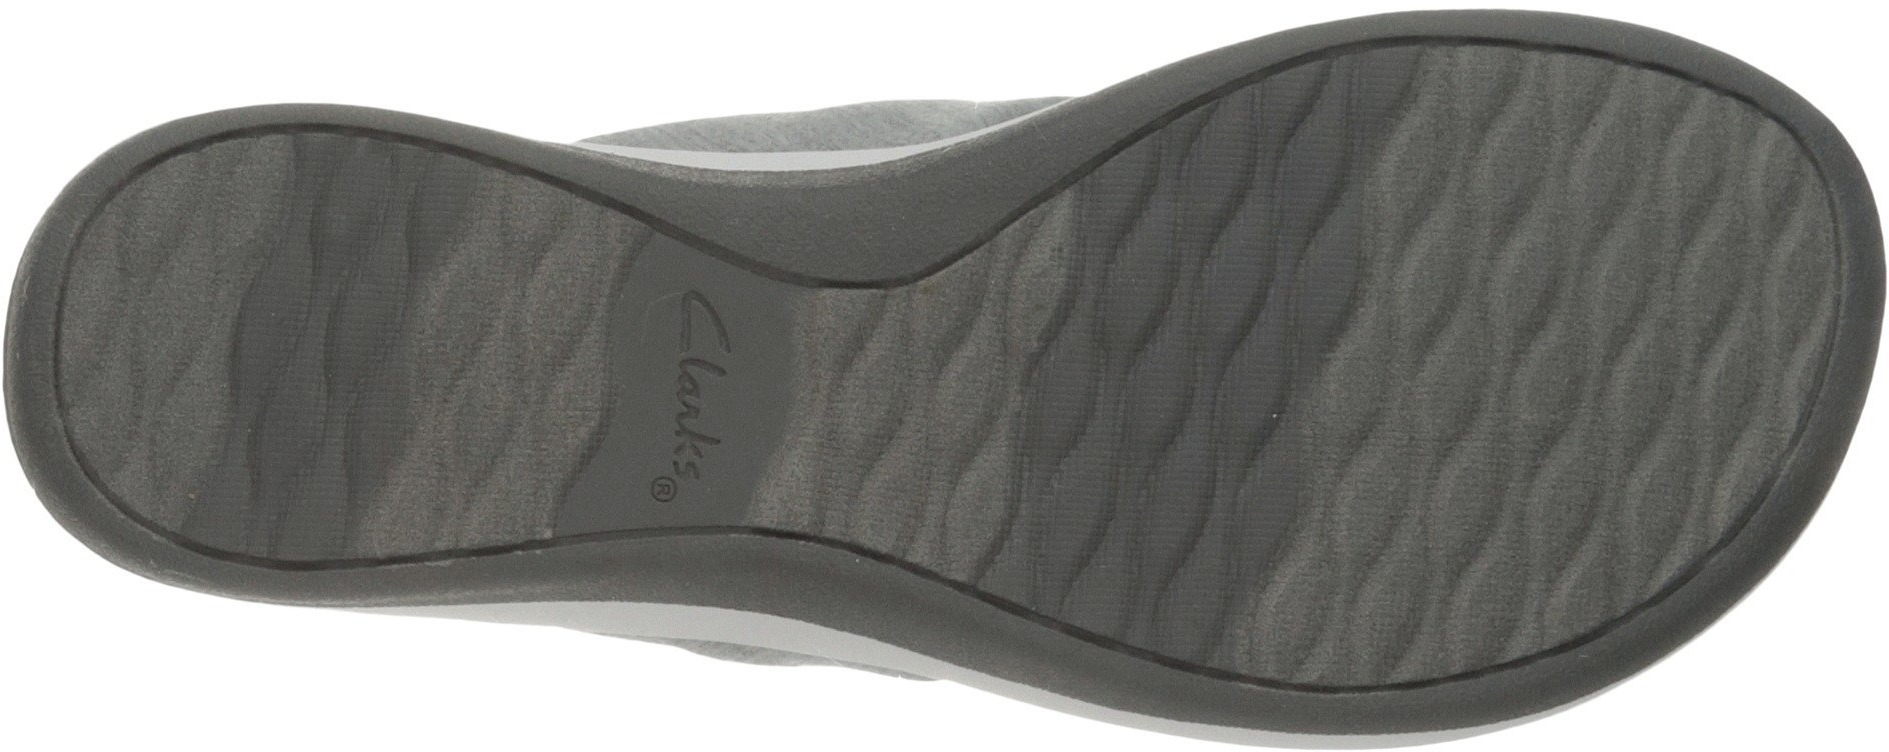chevron: (1107, 135, 1475, 490)
other: (136, 216, 447, 516), (1495, 123, 1782, 422), (820, 324, 1043, 541)
text: (626, 405, 738, 504), (646, 293, 752, 396)
